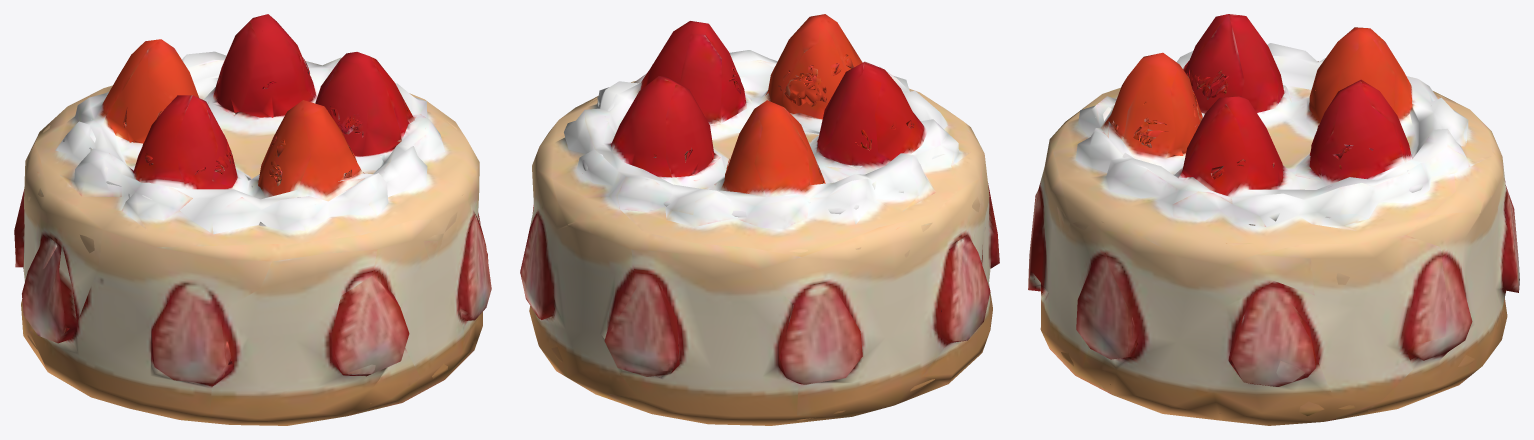
The model's file is cake.glb.
The picture shows the model from 3 angles, left to right: view 1: azimuth 30°, elevation 25°; view 2: azimuth 150°, elevation 25°; view 3: azimuth 270°, elevation 25°; orthographic projection.
Bounding box in the file's own units: 0.9991 × 0.6206 × 0.9995.
Materials: 1 (1 with a texture image).
